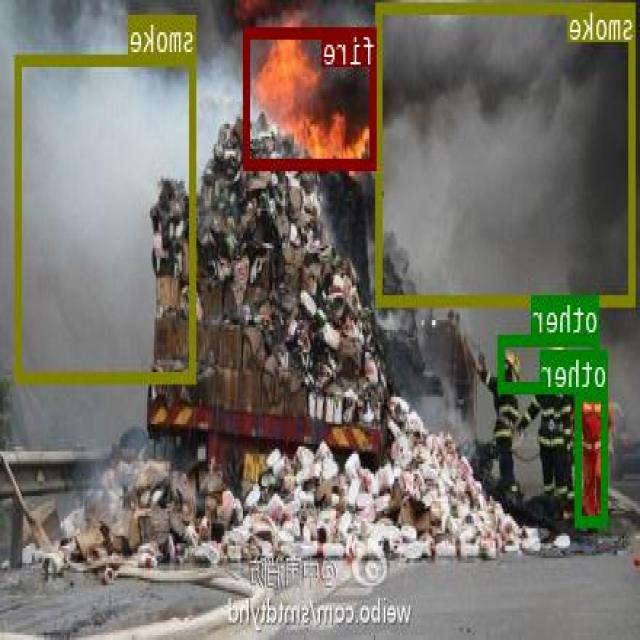fire: (245, 25, 377, 168)
other: (499, 332, 600, 390), (576, 388, 610, 524)
smoke: (377, 0, 636, 304), (17, 53, 198, 382)
